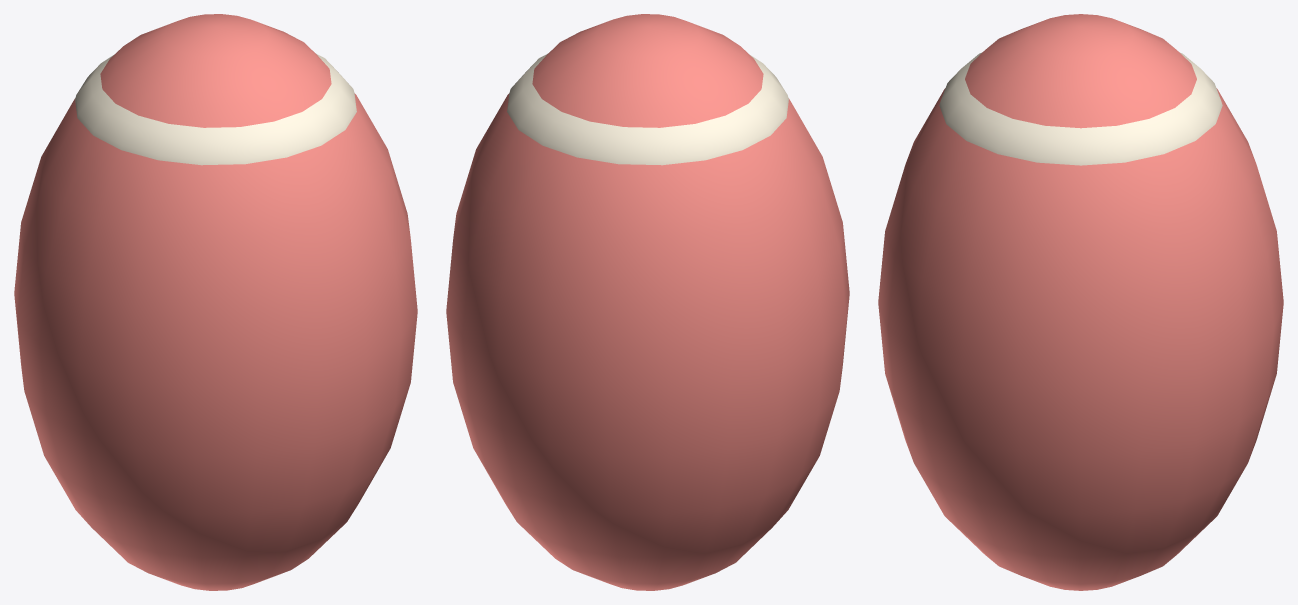
File: course_bumper.glb
The picture shows the model from 3 angles, left to right: view 1: azimuth 30°, elevation 25°; view 2: azimuth 150°, elevation 25°; view 3: azimuth 270°, elevation 25°; orthographic projection.
Parts seen in each view (by area): view 1: coral bumper, cream cap; view 2: coral bumper, cream cap; view 3: coral bumper, cream cap.
Boxes of the visible parts, left/top/right/bottom form: coral bumper: left=14, top=14, right=417, bottom=590; cream cap: left=75, top=53, right=356, bottom=165; coral bumper: left=446, top=14, right=849, bottom=590; cream cap: left=507, top=53, right=788, bottom=165; coral bumper: left=878, top=14, right=1283, bottom=590; cream cap: left=939, top=52, right=1222, bottom=165.
Size of the model in its own units: 1.2 by 1.8 by 1.2.
